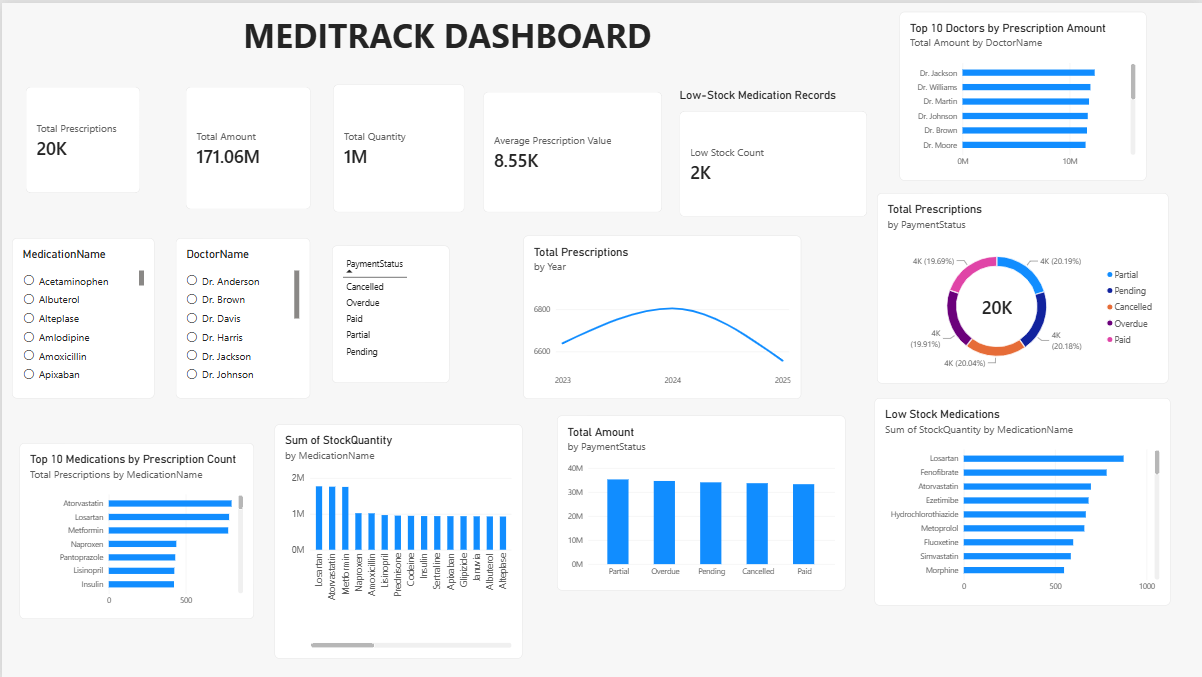

This screenshot's page, from the dashboard's own definition file:
{"tool":"powerbi","page":{"name":"Page 2","canvas":[1920,1080],"ordinal":0},"visuals":[{"type":"listSlicer","fields":{"Values":["meditrack_dataset.MedicationName"]},"box":[15,375,228.3,256.7],"z":0},{"type":"listSlicer","fields":{"Values":["meditrack_dataset.DoctorName"]},"box":[278.3,375,215,256.7],"z":1000},{"type":"tableEx","fields":{"Values":["meditrack_dataset.PaymentStatus"]},"box":[528.3,388.3,188.3,220],"z":2000},{"type":"lineChart","fields":{"Category":["meditrack_dataset.DateIssued.Variation.Date Hierarchy.Year","meditrack_dataset.DateIssued.Variation.Date Hierarchy.Quarter","meditrack_dataset.DateIssued.Variation.Date Hierarchy.Month","meditrack_dataset.DateIssued.Variation.Date Hierarchy.Day"],"Y":["meditrack_dataset.Total Prescriptions"]},"box":[833.3,371.7,445,261.7],"z":3000},{"type":"barChart","title":"Top 10 Medications by Prescription Count","fields":{"Category":["meditrack_dataset.MedicationName"],"Y":["meditrack_dataset.Total Prescriptions"]},"box":[28.3,703.3,375,281.7],"z":4000},{"type":"barChart","title":"Top 10 Doctors by Prescription Amount","fields":{"Category":["meditrack_dataset.DoctorName"],"Y":["meditrack_dataset.Total Amount"]},"box":[1435,13.3,395,270],"z":4001},{"type":"donutChart","fields":{"Category":["meditrack_dataset.PaymentStatus"],"Y":["meditrack_dataset.Total Prescriptions"]},"box":[1400,303.3,466.7,305],"z":4002},{"type":"columnChart","fields":{"Category":["meditrack_dataset.PaymentStatus"],"Y":["meditrack_dataset.Total Amount"]},"box":[888.3,660,461.7,280],"z":4003},{"type":"barChart","title":"Low Stock Medications","fields":{"Category":["meditrack_dataset.MedicationName"],"Y":["Sum(meditrack_dataset.StockQuantity)"]},"box":[1396.7,631.7,473.3,331.7],"z":4004},{"type":"clusteredColumnChart","fields":{"Category":["meditrack_dataset.MedicationName"],"Y":["Sum(meditrack_dataset.StockQuantity)"]},"box":[436.7,673.3,396.7,375],"z":4006},{"type":"cardVisual","fields":{"Data":["meditrack_dataset.Total Prescriptions"]},"box":[38.3,133.3,183.3,170],"z":4007},{"type":"cardVisual","fields":{"Data":["meditrack_dataset.Total Amount"]},"box":[293.3,133.3,200,196.7],"z":4008},{"type":"cardVisual","fields":{"Data":["meditrack_dataset.Total Quantity"]},"box":[530,130,210,205],"z":4009},{"type":"cardVisual","fields":{"Data":["meditrack_dataset.Average Prescription Value"]},"box":[770,141.7,286.7,193.3],"z":4010},{"type":"cardVisual","title":"Low-Stock Medication Records","fields":{"Data":["meditrack_dataset.Low Stock Count"]},"box":[1083.3,135,300,206.7],"z":4011},{"type":"textbox","box":[386.7,13.3,780,86.7],"z":4012},{"type":"textbox","box":[100,100,300,300],"z":4013},{"type":"textbox","box":[100,100,300,300],"z":4014}]}

Visuals, with their boxes in screenshot pixels (x1, y1, x2, y2), scaled from the page's 1920x1080 canvas onto the 1202x677 screenshot:
listSlicer - meditrack_dataset.MedicationName: [x1=9, y1=235, x2=152, y2=396]
listSlicer - meditrack_dataset.DoctorName: [x1=174, y1=235, x2=309, y2=396]
tableEx - meditrack_dataset.PaymentStatus: [x1=331, y1=243, x2=449, y2=381]
lineChart - meditrack_dataset.DateIssued.Variation.Date Hierarchy.Year x meditrack_dataset.DateIssued.Variation.Date Hierarchy.Quarter: [x1=522, y1=233, x2=800, y2=397]
"Top 10 Medications by Prescription Count" barChart: [x1=18, y1=441, x2=252, y2=617]
"Top 10 Doctors by Prescription Amount" barChart: [x1=898, y1=8, x2=1146, y2=178]
donutChart - meditrack_dataset.PaymentStatus x meditrack_dataset.Total Prescriptions: [x1=876, y1=190, x2=1169, y2=381]
columnChart - meditrack_dataset.PaymentStatus x meditrack_dataset.Total Amount: [x1=556, y1=414, x2=845, y2=589]
"Low Stock Medications" barChart: [x1=874, y1=396, x2=1171, y2=604]
clusteredColumnChart - meditrack_dataset.MedicationName x Sum(meditrack_dataset.StockQuantity): [x1=273, y1=422, x2=522, y2=657]
cardVisual - meditrack_dataset.Total Prescriptions: [x1=24, y1=84, x2=139, y2=190]
cardVisual - meditrack_dataset.Total Amount: [x1=184, y1=84, x2=309, y2=207]
cardVisual - meditrack_dataset.Total Quantity: [x1=332, y1=81, x2=463, y2=210]
cardVisual - meditrack_dataset.Average Prescription Value: [x1=482, y1=89, x2=662, y2=210]
"Low-Stock Medication Records" cardVisual: [x1=678, y1=85, x2=866, y2=214]
textbox: [x1=242, y1=8, x2=730, y2=63]
textbox: [x1=63, y1=63, x2=250, y2=251]
textbox: [x1=63, y1=63, x2=250, y2=251]
